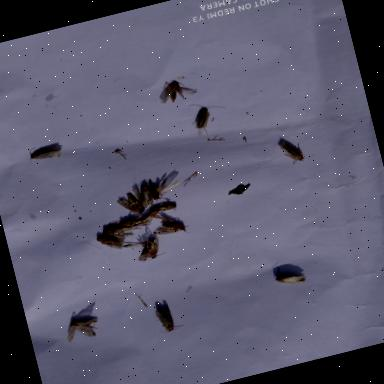pbw: (182, 94, 236, 140), (264, 251, 316, 290), (137, 170, 186, 210), (151, 72, 202, 110), (149, 208, 197, 245), (17, 136, 69, 168), (149, 296, 189, 336), (60, 310, 104, 346), (274, 129, 310, 169), (129, 230, 168, 266), (92, 224, 130, 260), (111, 188, 151, 222), (126, 201, 170, 230), (100, 215, 136, 246), (148, 194, 188, 219), (118, 213, 152, 236)
